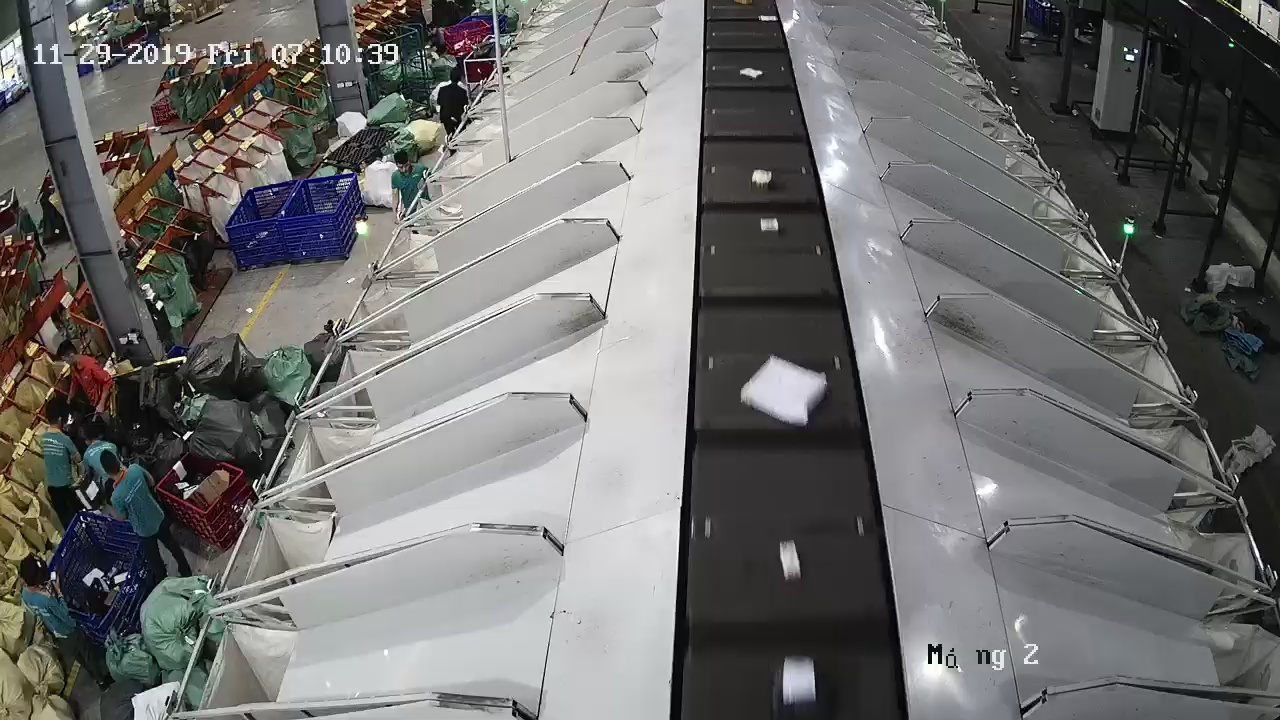parcel: (740, 354, 827, 427), (779, 539, 801, 584), (750, 167, 773, 192), (760, 217, 779, 238)
